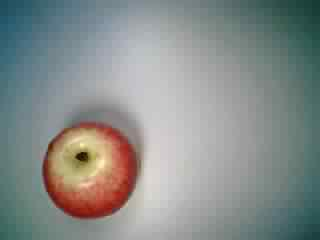apple: (42, 119, 146, 219)
